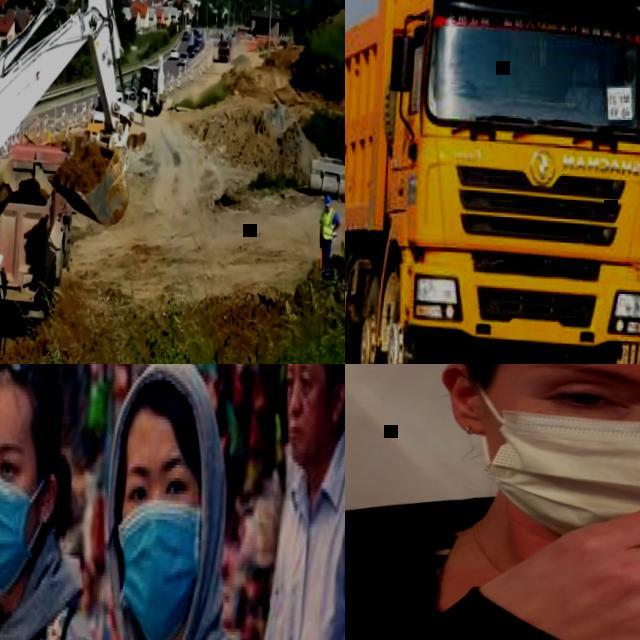helmet: (325, 195, 333, 202)
vest: (319, 202, 340, 237), (142, 98, 147, 110)
